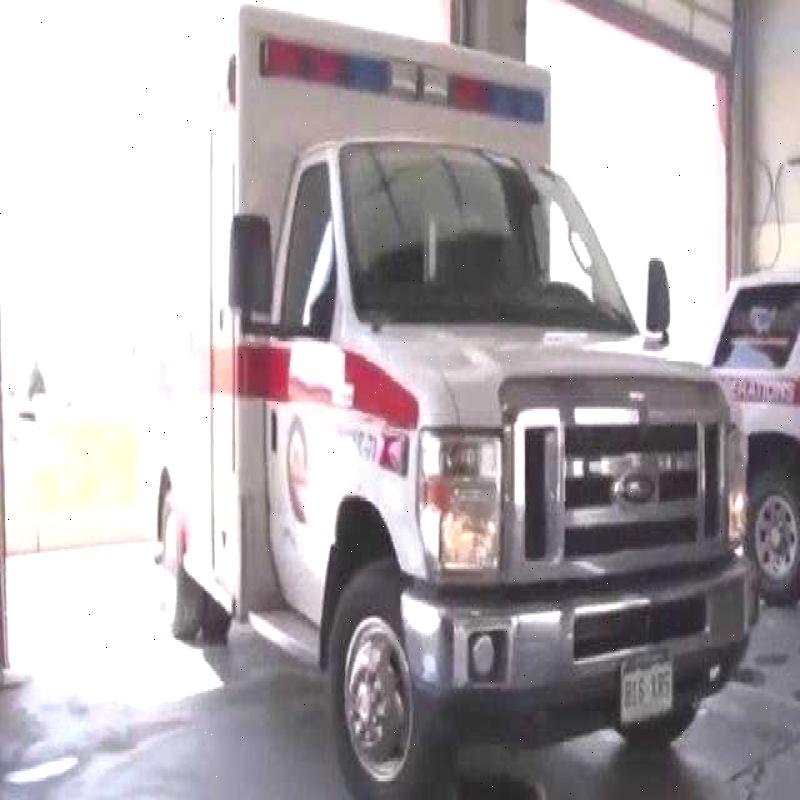AmbulanceSiren: (248, 16, 548, 153)
